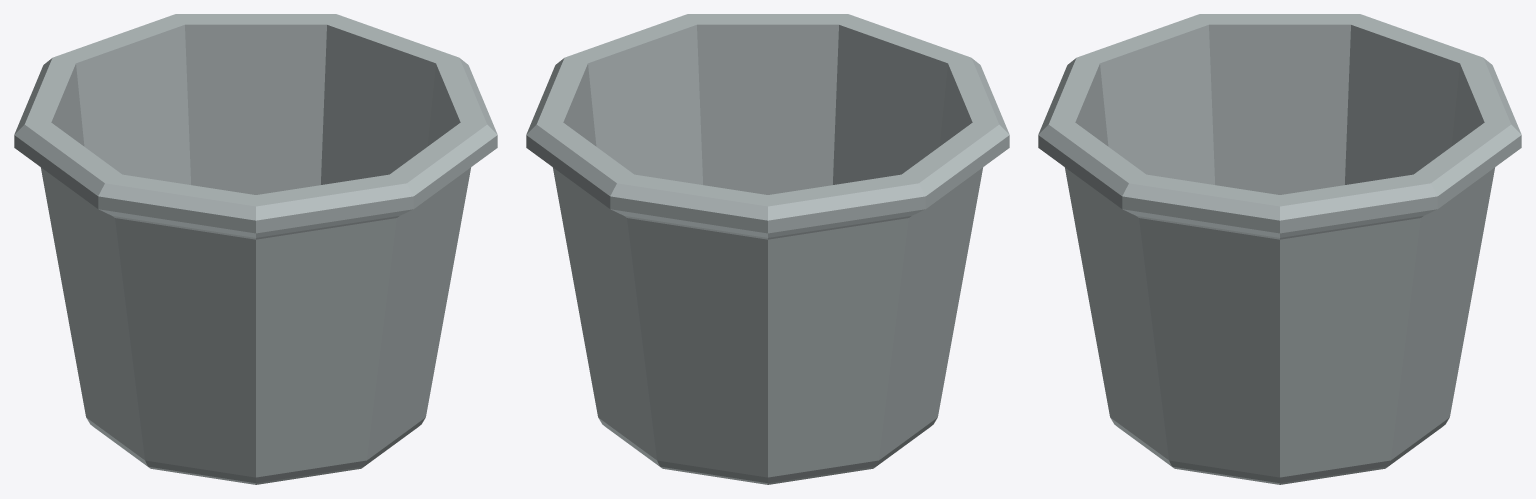
The model's file is Bucket.FBX.
3 views of the same model, side by side, from view 1: azimuth 30°, elevation 25°; view 2: azimuth 150°, elevation 25°; view 3: azimuth 270°, elevation 25° (orthographic).
Visible parts, largest first — view 1: Cylinder023; view 2: Cylinder023; view 3: Cylinder023.
Part boxes in pixels (box(x1,y1,x2,y2)): Cylinder023: box(14, 14, 497, 484); Cylinder023: box(526, 14, 1009, 484); Cylinder023: box(1038, 14, 1521, 484).
Bounding box in the file's own units: 118 × 84.88 × 119.
